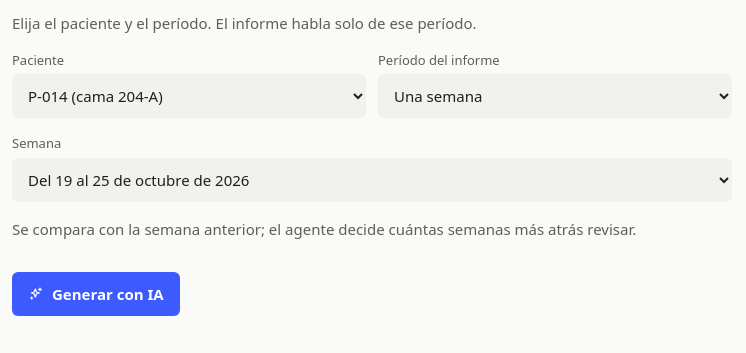
Scenario: ReportGenerateComponent (vInfGenerar del mockup) › si el servidor rechaza el pedido (ejecutor lleno, 503), el mensaje va junto al boton, sin codigo crudo
The width and height of the screenshot is (746, 353).
Click the button with id "ig-btn". click: (96, 294)
box: [12,272,180,316]
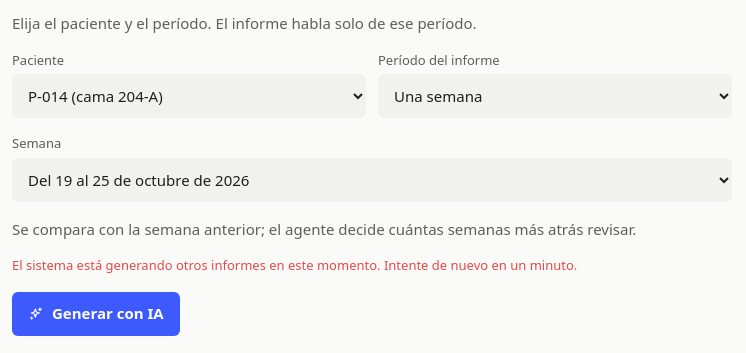
expect the text with id "ig-err" shows "El sistema está generando otros informes en este momento. Intente de nuevo en un minuto.": met, box [12,256,577,274]
